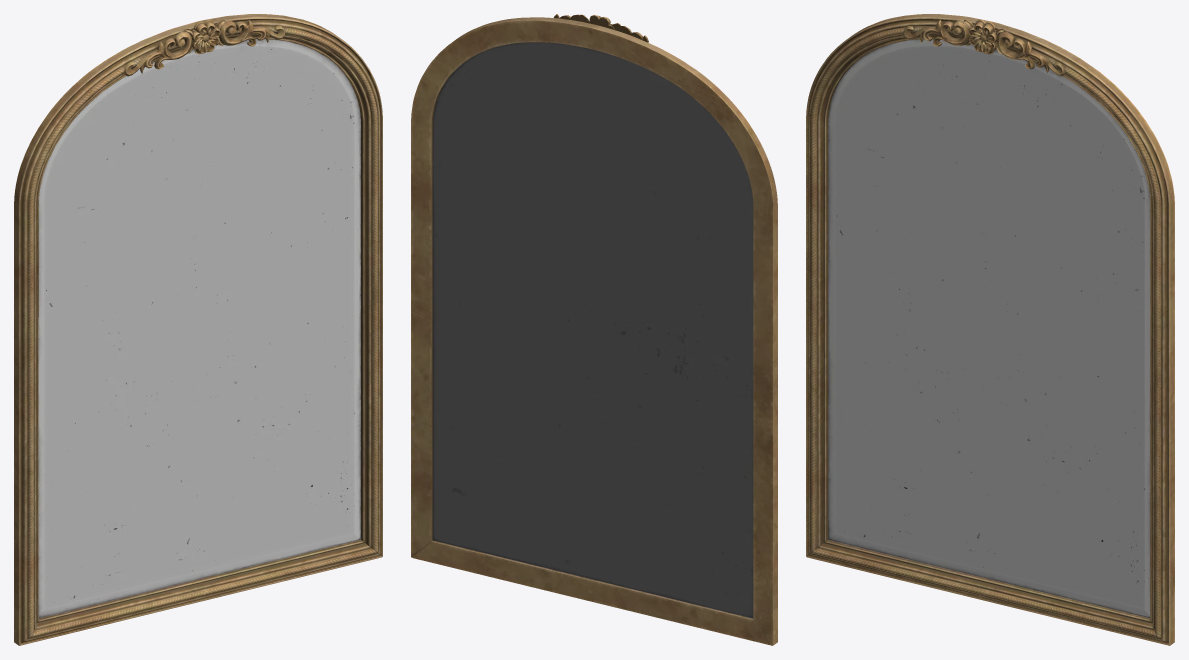
Rendered from ornate_mirror_01.glb.
The picture shows the model from 3 angles, left to right: view 1: azimuth 30°, elevation 25°; view 2: azimuth 150°, elevation 25°; view 3: azimuth 330°, elevation 25°; orthographic projection.
Parts seen in each view (by area): view 1: ornate_mirror_01; view 2: ornate_mirror_01; view 3: ornate_mirror_01.
Boxes of the visible parts, x1,y1,x2,y2 form: ornate_mirror_01: (14,14,382,645); ornate_mirror_01: (411,14,777,645); ornate_mirror_01: (806,14,1174,645).
Bounding box in the file's own units: 0.4865 × 0.7442 × 0.026.
1 material, 1 textured.
